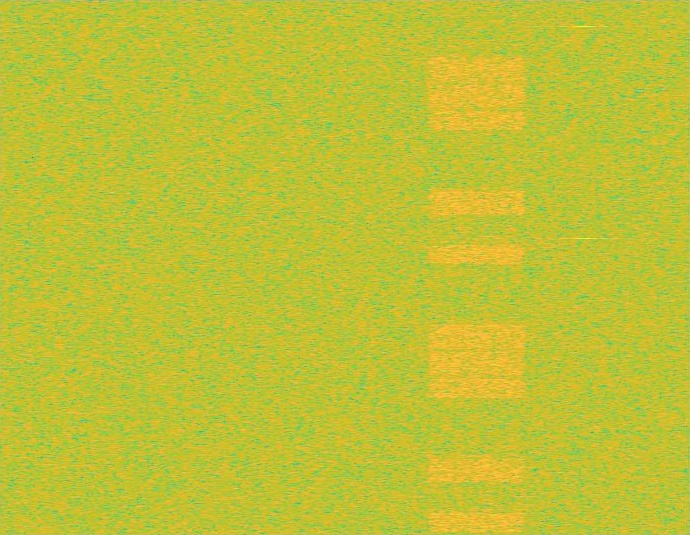LTE: (425, 0, 529, 534)
Radar: (578, 0, 591, 534)
